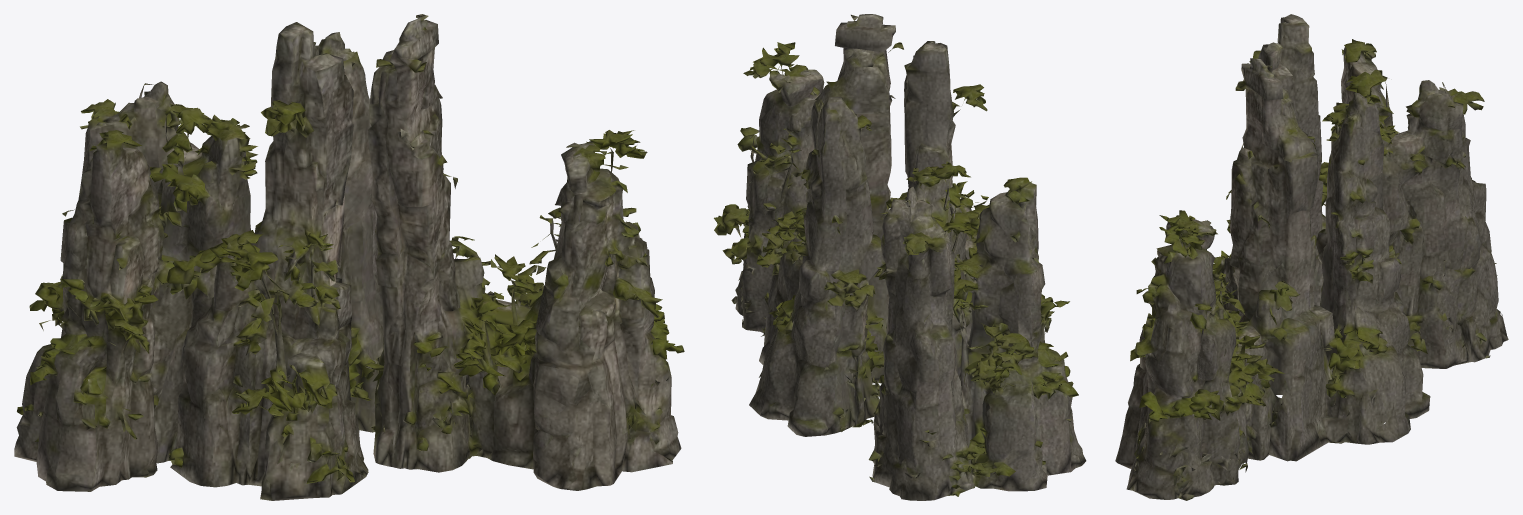
The model's file is pillars_a_far.glb.
3 views of the same model, side by side, from view 1: azimuth 30°, elevation 25°; view 2: azimuth 150°, elevation 25°; view 3: azimuth 270°, elevation 25° (orthographic). The views are drawn at different scales.
Parts seen in each view (by area): view 1: pillars_a; view 2: pillars_a; view 3: pillars_a.
Boxes of the visible parts, x1,y1,x2,y2 form: pillars_a: (14,14,684,500); pillars_a: (714,14,1086,500); pillars_a: (1115,14,1508,500).
Bounding box in the file's own units: 1.89 × 1.45 × 1.45.
Materials: 1 (1 with a texture image).
